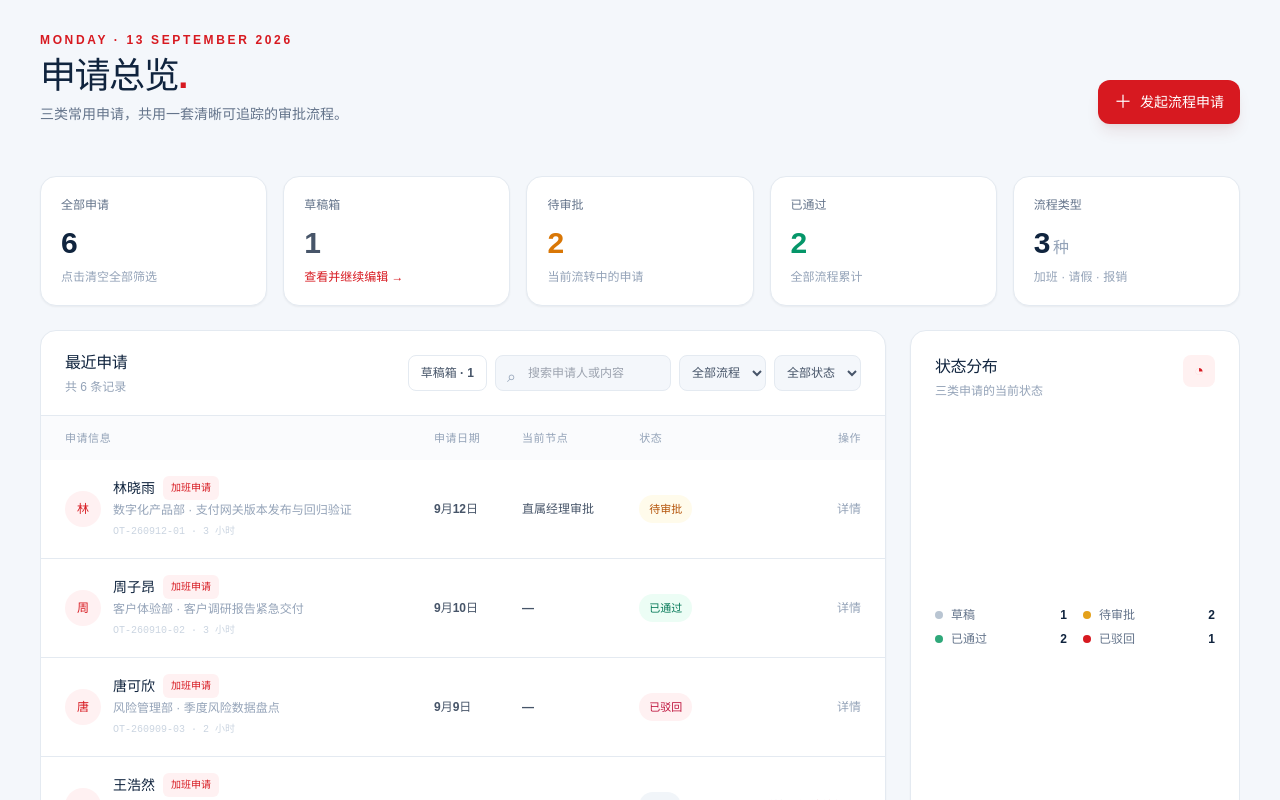
dashboard page › filters applications by applicant or content
Type "家庭出行" into the field with placeholder "搜索申请人或内容" at (583,373), box [495,355,671,391]
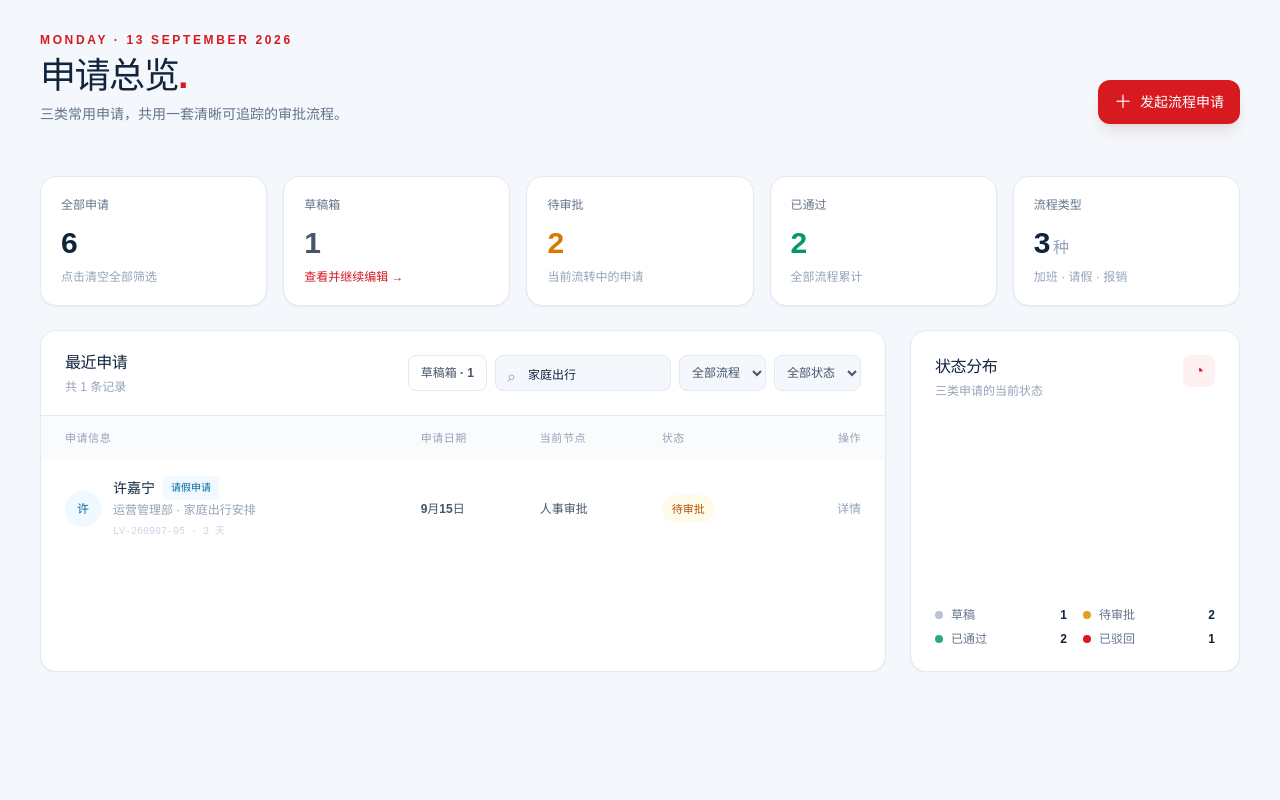
Expected: the text "许嘉宁" is shown, [113,478,155,498]
Expected: the text "林晓雨" is gone
Expected: the text "共 1 条记录" is shown, [65,379,127,395]
